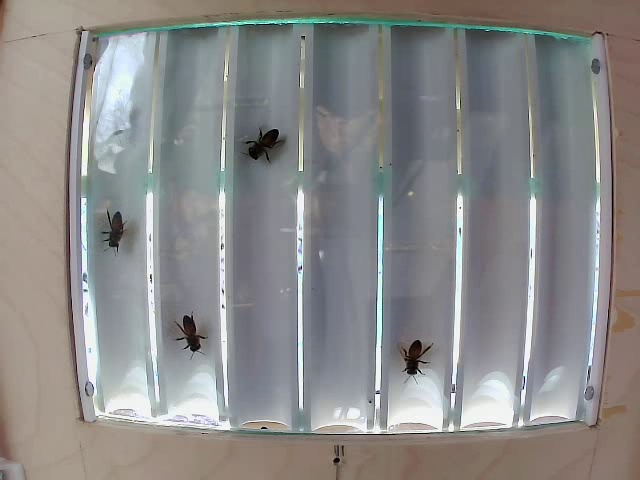bee: (390, 324, 439, 381), (158, 308, 222, 350), (95, 202, 136, 263), (245, 104, 282, 162)
